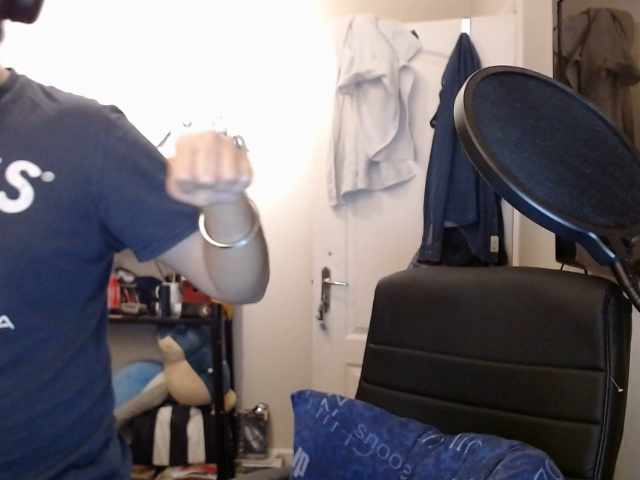Yes: (160, 132, 265, 215)
